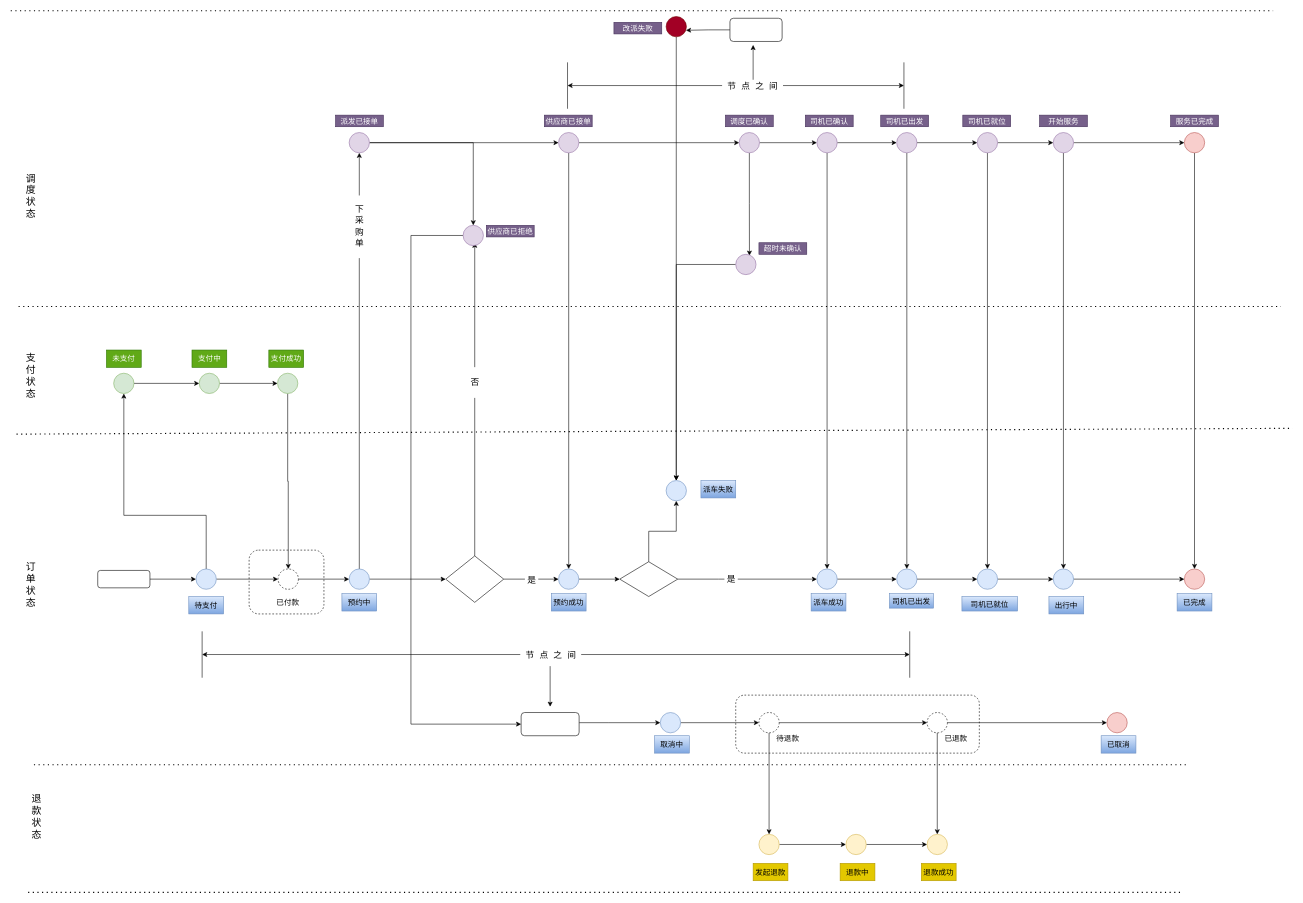
This 1303x903 diagram has some shape labels left out. The centre of each missing label's shape, as x and y in pixels:
"发起改派" goes at point 755,29.
"取消订单" goes at point 550,724.
"提交订单" goes at point 123,579.
"是否 派车成功" goes at point 648,579.
"是否 预约成功" goes at point 474,578.
